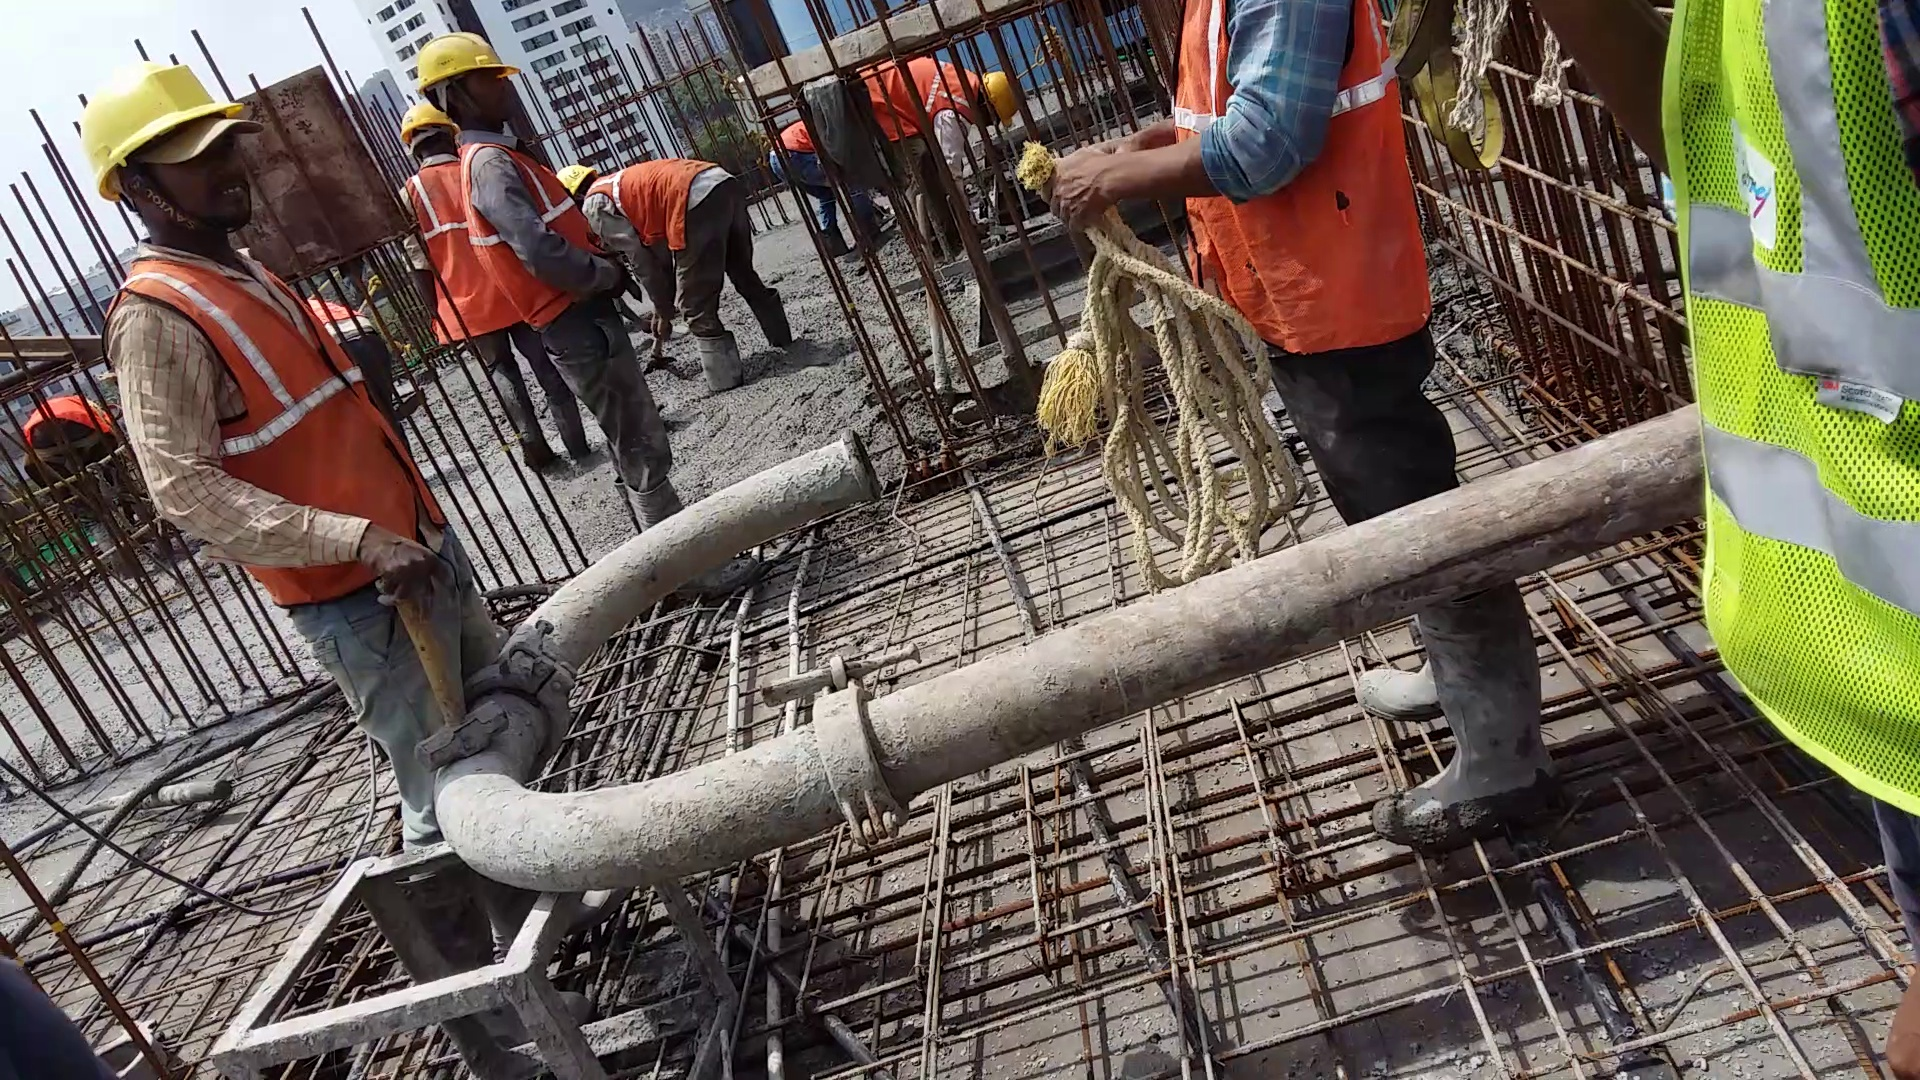SAFE: (84, 63, 372, 575), (423, 30, 588, 319), (402, 94, 454, 258)
